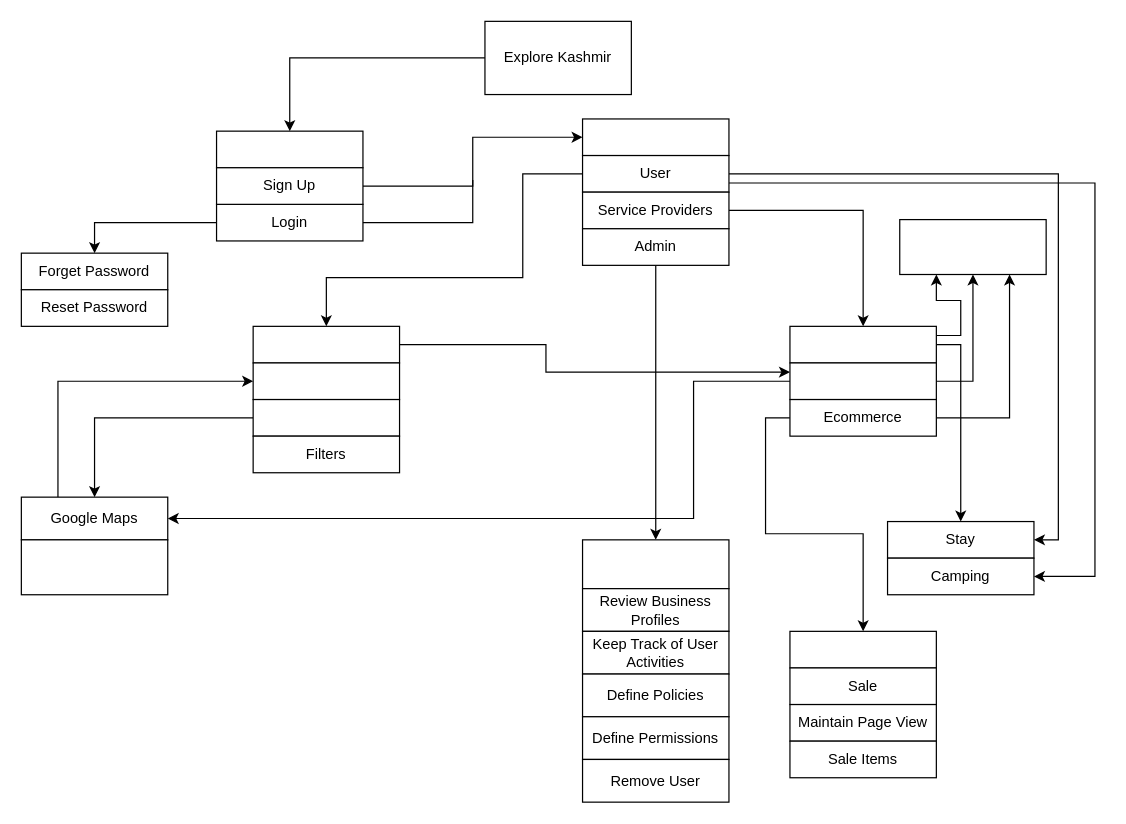
The diagram is 1126 pixels wide and 824 high, and some of its shapes have lost their labels. Here are the shapes that lost their labels. From the top down, the centre of each, then its label:
the point at 289,149: Authentication
the point at 655,137: Identify User Roles
the point at 972,246: Communications and Transactions
the point at 326,344: Destination
the point at 862,344: Accommodation
the point at 326,381: Favorites
the point at 862,381: Transport
the point at 326,417: Search
the point at 94,567: Real Time Tracking and Updates
the point at 655,564: Manage Users and Service Providers
the point at 862,649: List Items
